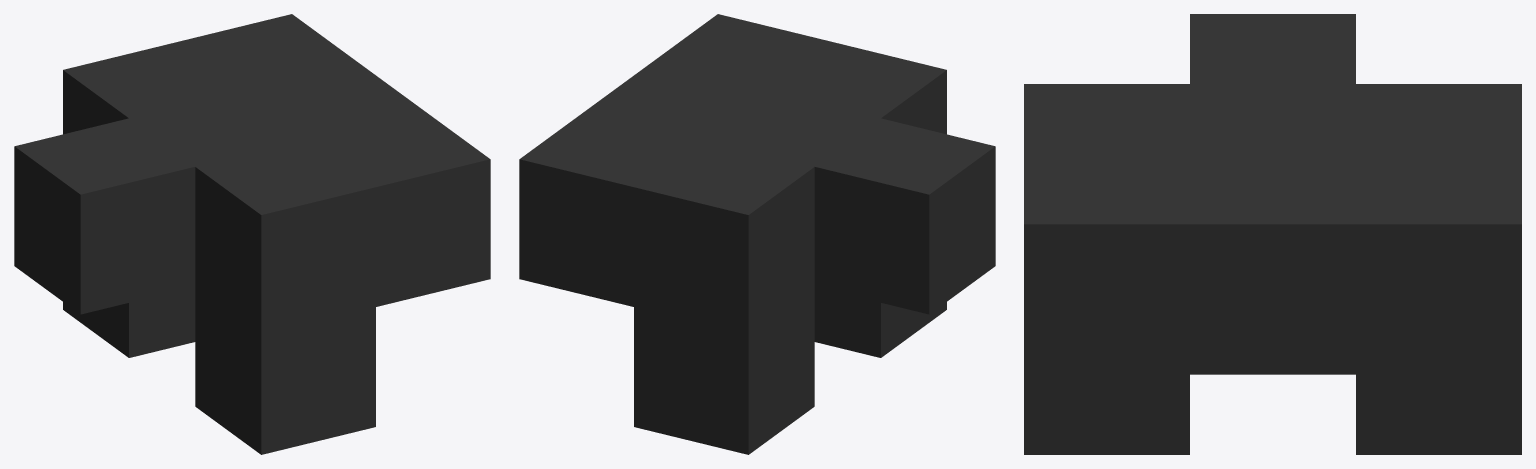
Rendered from bat-5-walk.obj.
3 views of the same model, side by side, from view 1: azimuth 30°, elevation 25°; view 2: azimuth 150°, elevation 25°; view 3: azimuth 270°, elevation 25° (orthographic). The views are drawn at different scales.
Parts seen in each view (by area): view 1: walk; view 2: walk; view 3: walk.
Boxes of the visible parts, x1,y1,x2,y2 form: walk: (14,14,490,454); walk: (519,14,995,454); walk: (1024,14,1521,454).
Size of the model in its own units: 0.3 by 0.2 by 0.3.
Materials: 1 (1 with a texture image).
